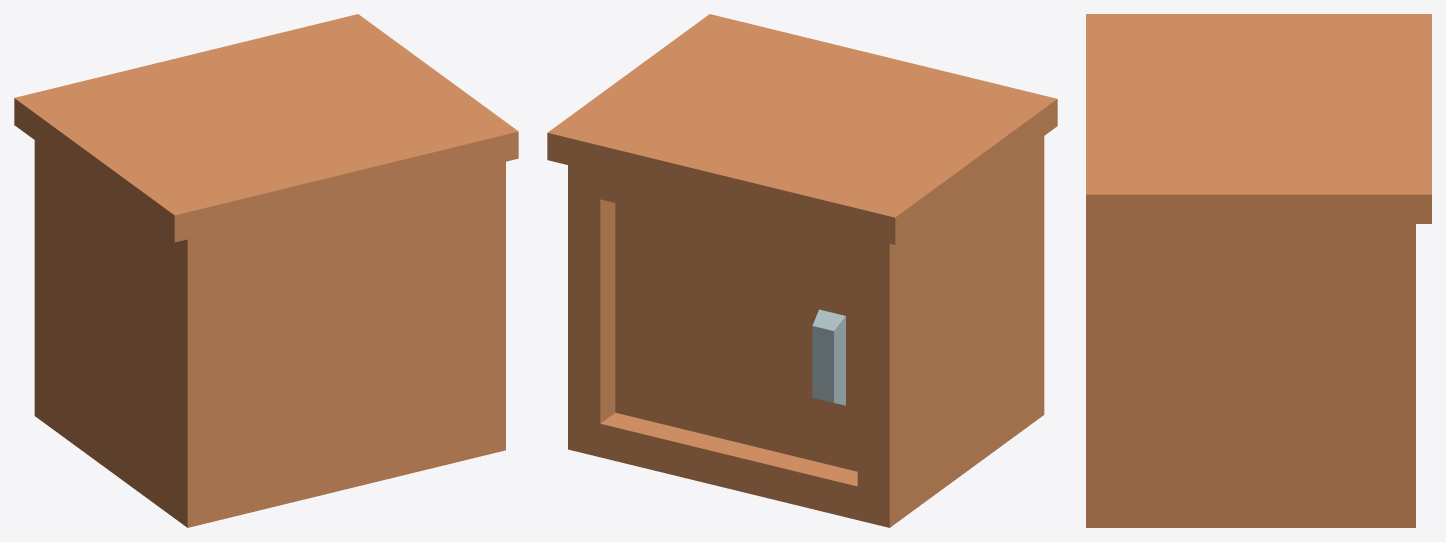
Rendered from cabinetBed.obj.
3 views of the same model, side by side, from view 1: azimuth 30°, elevation 25°; view 2: azimuth 150°, elevation 25°; view 3: azimuth 270°, elevation 25° (orthographic). The views are drawn at different scales.
Visible parts, largest first — view 1: cabinetBed; view 2: cabinetBed, door; view 3: cabinetBed.
Boxes of the visible parts, left/top/right/bottom form: cabinetBed: left=14, top=14, right=518, bottom=527; cabinetBed: left=547, top=14, right=1057, bottom=527; door: left=615, top=203, right=857, bottom=471; cabinetBed: left=1086, top=14, right=1431, bottom=527.
Size of the model in its own units: 0.266 by 0.2332 by 0.215.
